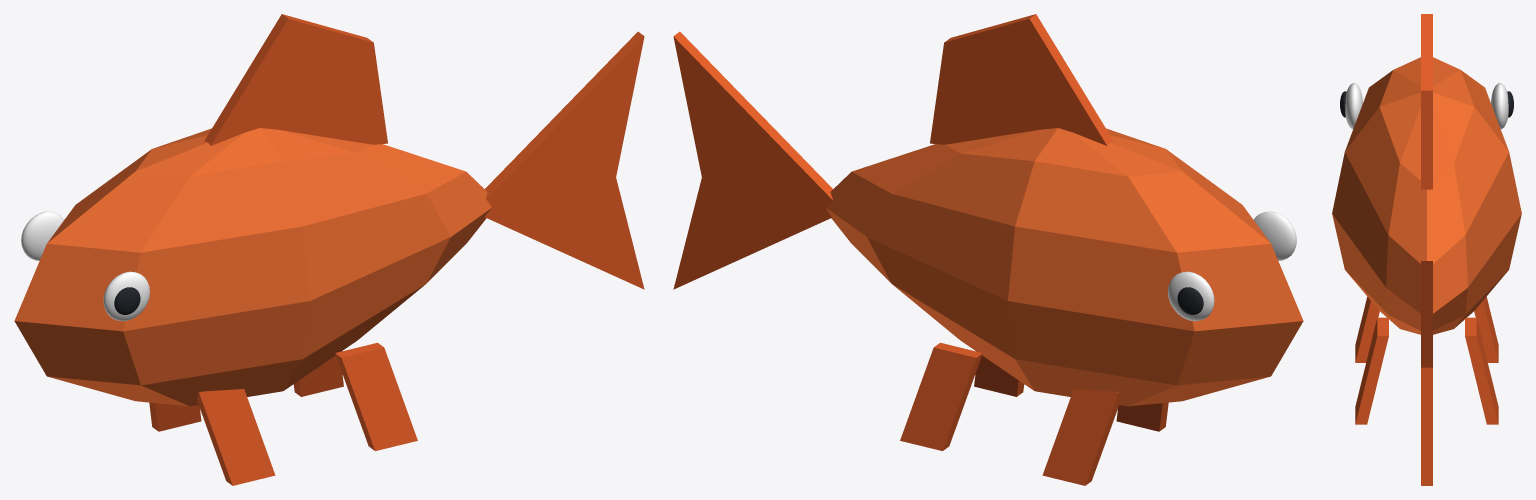
File: fish.glb
3 views of the same model, side by side, from view 1: azimuth 30°, elevation 25°; view 2: azimuth 150°, elevation 25°; view 3: azimuth 270°, elevation 25° (orthographic). The views are drawn at different scales.
Parts seen in each view (by area): view 1: body, belly_fin, eye; view 2: body, belly_fin, eye; view 3: body, belly_fin, eye, pupil.
Part boxes in pixels (<box>): body: <box>14,128,491,406</box>; belly_fin: <box>149,14,644,485</box>; eye: <box>21,211,149,321</box>; body: <box>826,128,1303,406</box>; belly_fin: <box>673,14,1168,485</box>; eye: <box>1168,211,1296,321</box>; body: <box>1332,57,1521,334</box>; belly_fin: <box>1355,14,1498,485</box>; eye: <box>1345,83,1508,129</box>; pupil: <box>1340,91,1513,117</box>.
Size of the model in its own units: 0.44 by 0.28 by 0.13.
